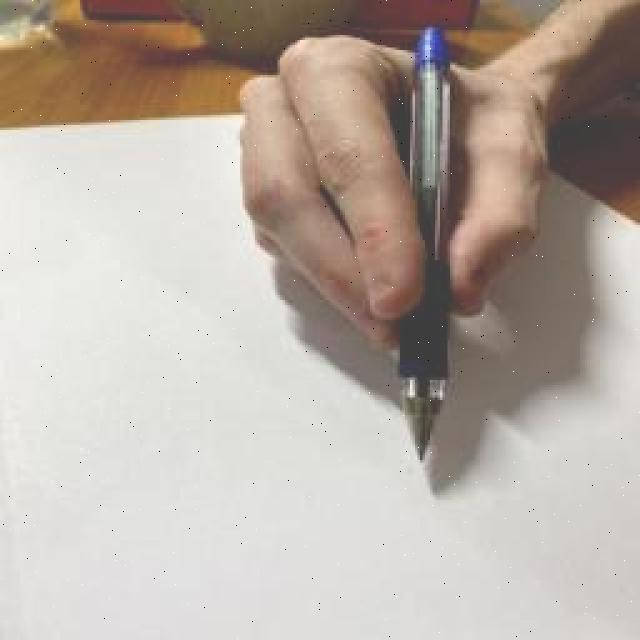pen: (392, 25, 458, 463)
